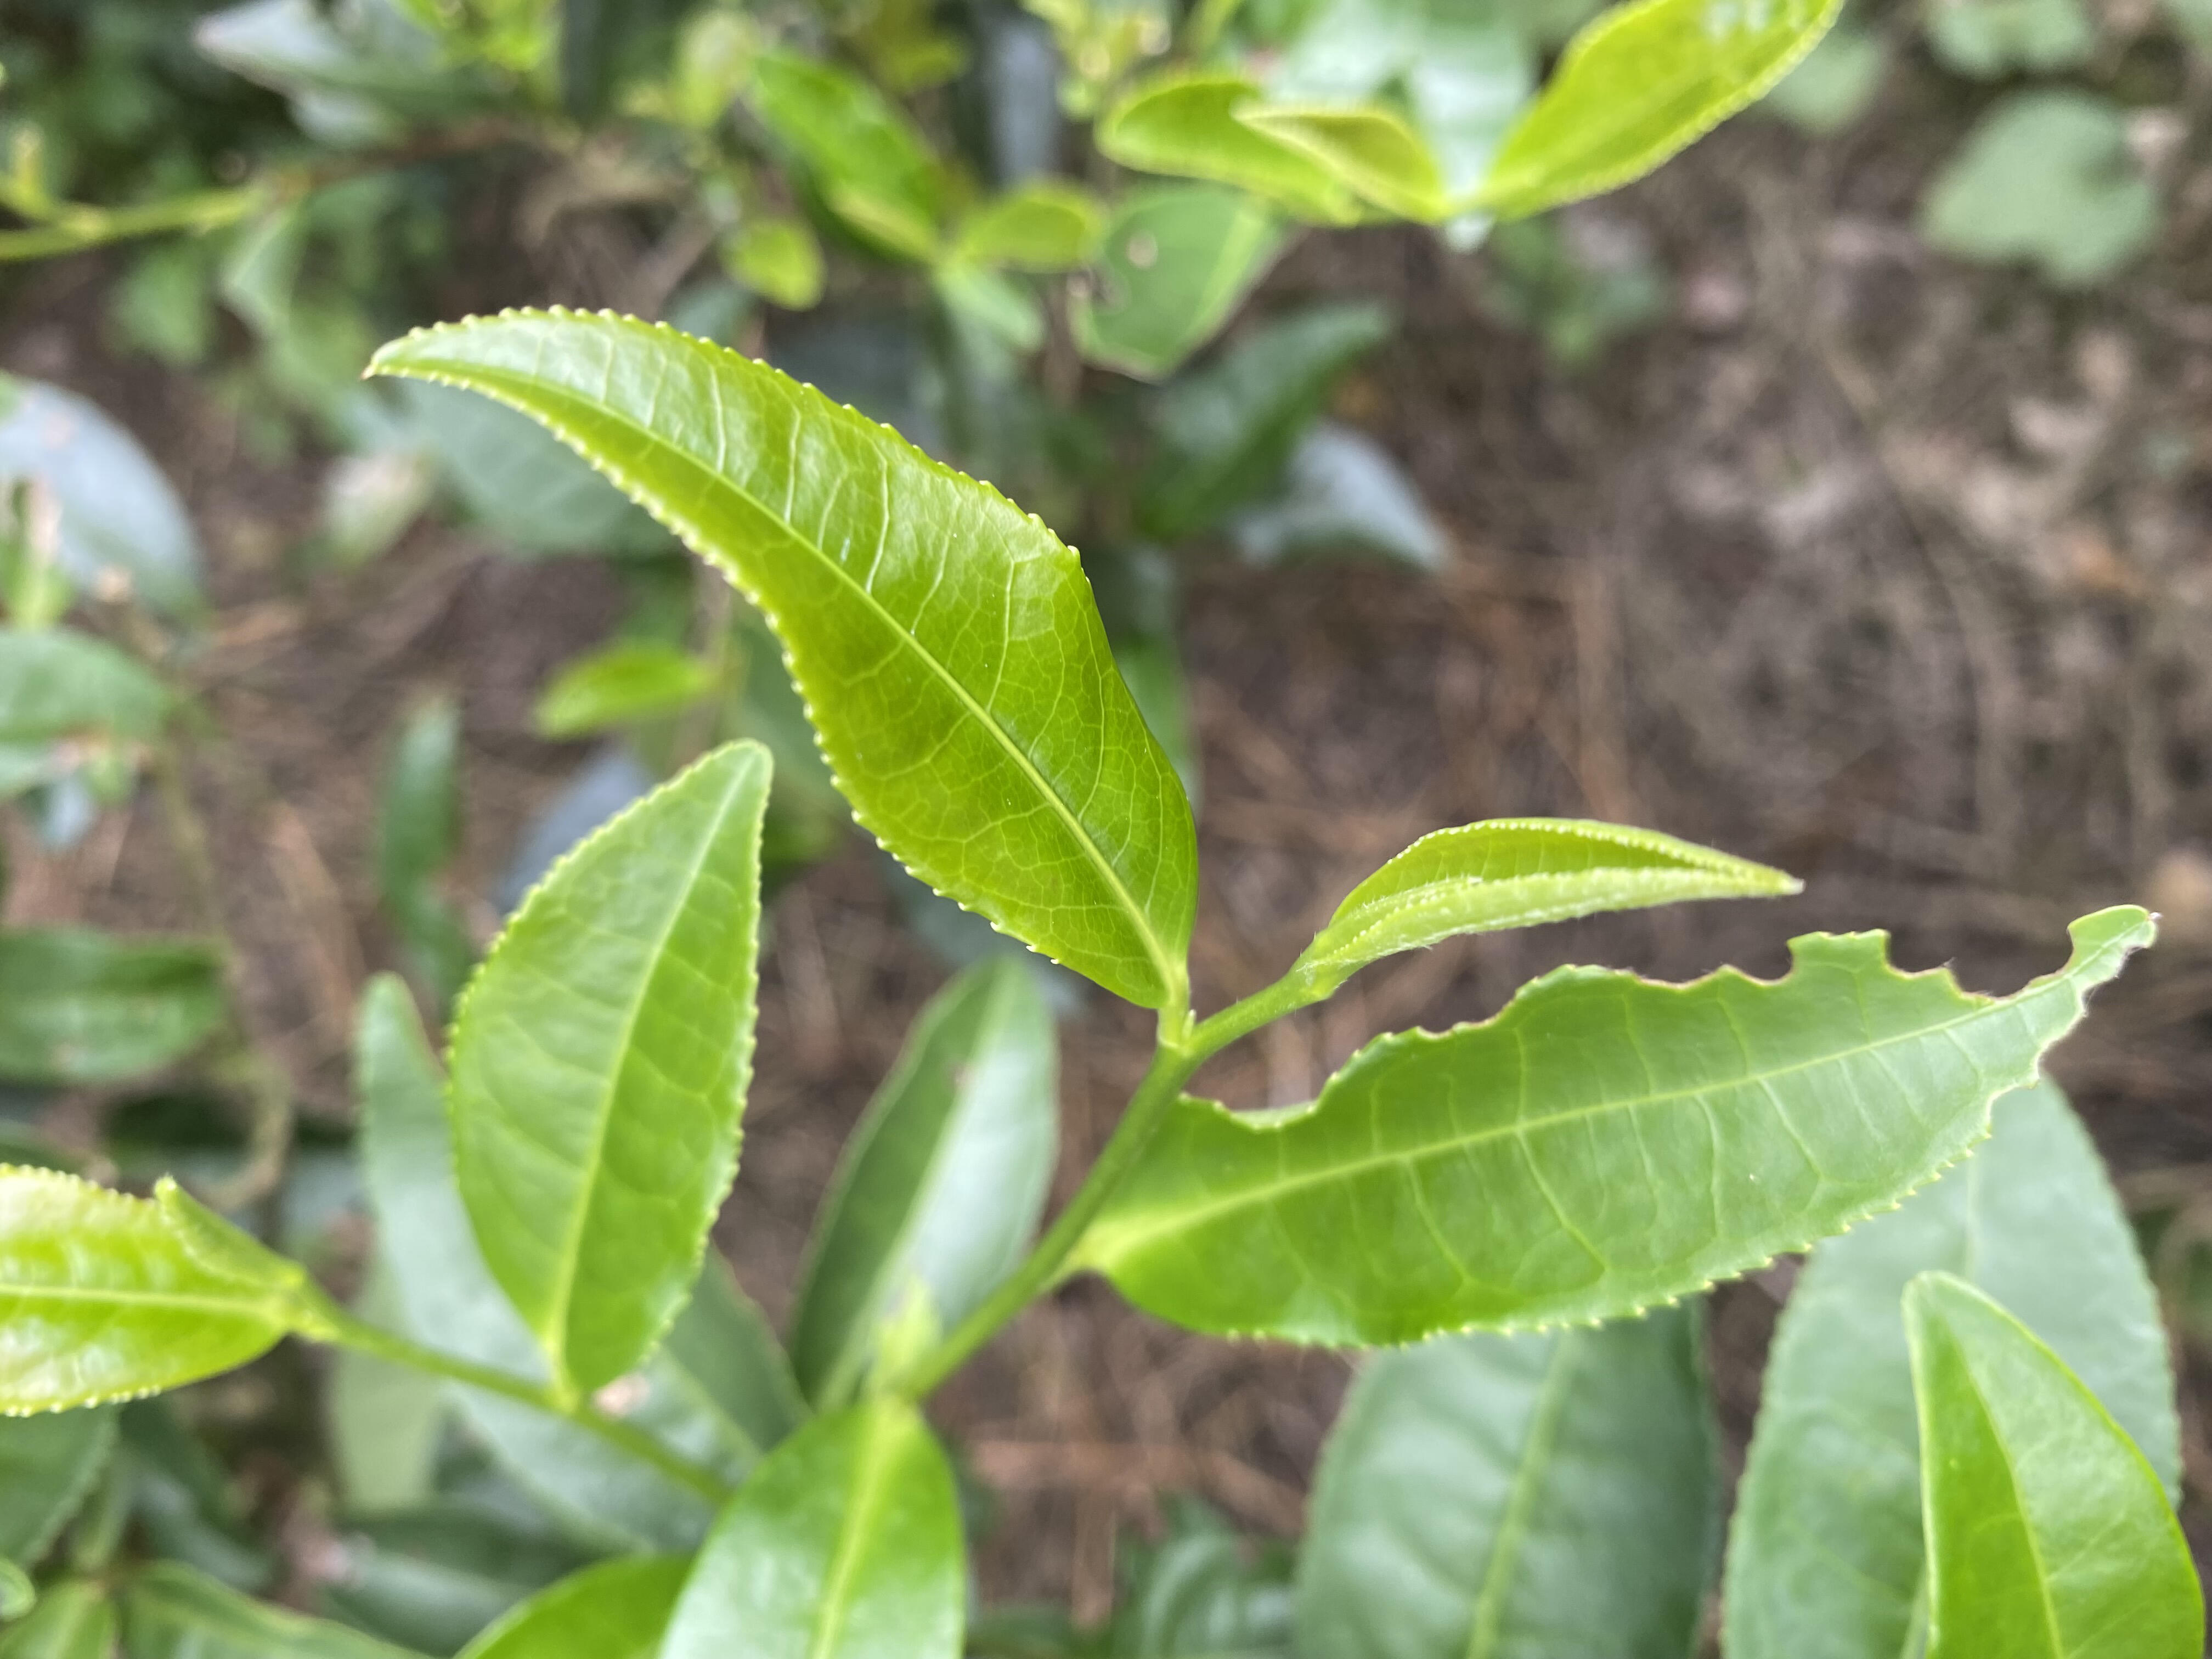chihuo_high: (1096, 904, 2160, 1351)
healthy: (362, 303, 1200, 1006), (441, 739, 773, 1378), (1898, 1267, 2207, 1656)
